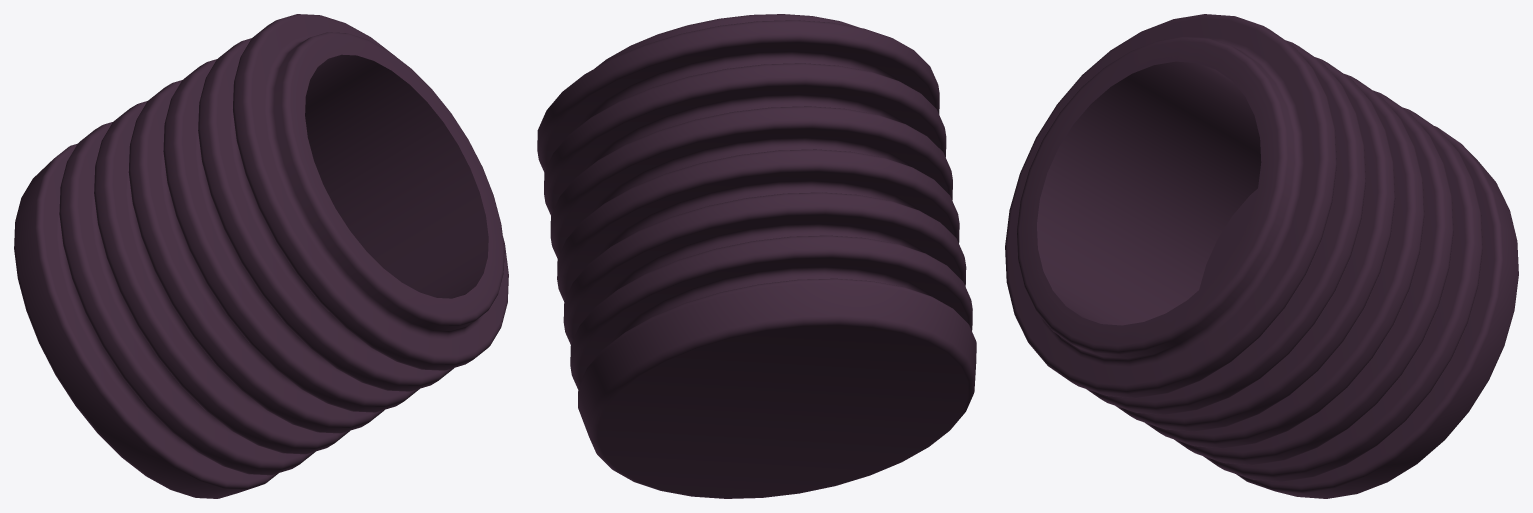
File: figure-5.glb
3 views of the same model, side by side, from view 1: azimuth 30°, elevation 25°; view 2: azimuth 150°, elevation 25°; view 3: azimuth 270°, elevation 25° (orthographic). The views are drawn at different scales.
Parts seen in each view (by area): view 1: Cylinder.005; view 2: Cylinder.005; view 3: Cylinder.005.
Boxes of the visible parts, x1=… form: Cylinder.005: x1=14, y1=14, x2=508, y2=498; Cylinder.005: x1=537, y1=14, x2=976, y2=498; Cylinder.005: x1=1005, y1=14, x2=1518, y2=498.
Bounding box in the file's own units: 4.79 × 4.86 × 4.86.
